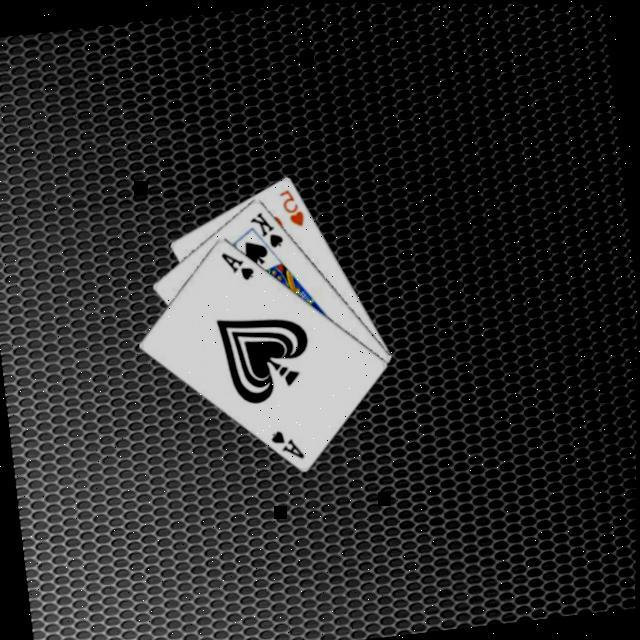5H: (273, 182, 306, 230)
AS: (264, 423, 306, 463), (216, 244, 256, 284)
KS: (244, 204, 285, 251)
